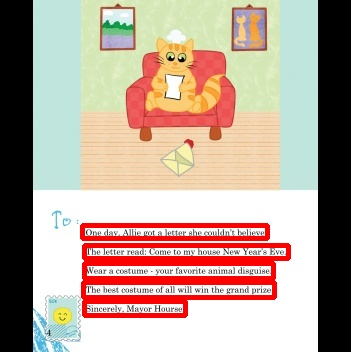latin: (83, 282, 274, 297), (84, 263, 273, 278), (84, 245, 288, 258), (82, 225, 267, 238), (84, 301, 185, 315)
